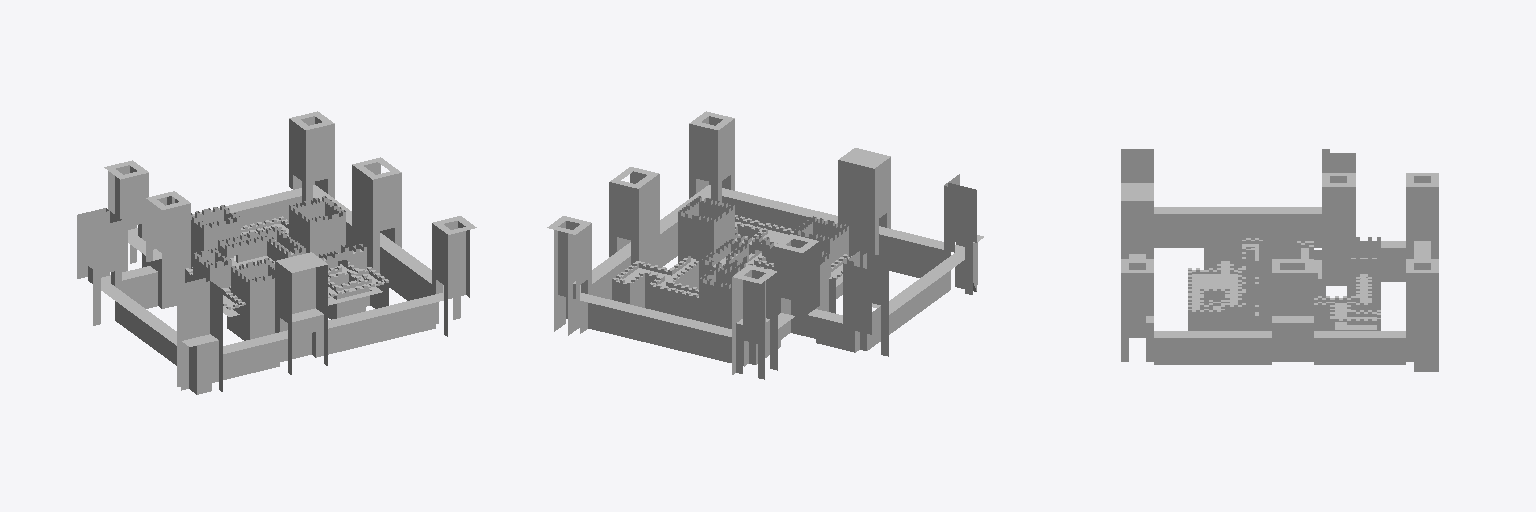
Rendered from Combined Mesh (root_ scene) #61264.obj.
3 renders of one model, left to right at view 1: azimuth 30°, elevation 25°; view 2: azimuth 150°, elevation 25°; view 3: azimuth 270°, elevation 25°, orthographic.
Parts seen in each view (by area): view 1: Combined Mesh (root: scene)_41, Combined Mesh (root: scene)_46, Combined Mesh (root: scene)_47, Combined Mesh (root: scene)_45, Combined Mesh (root: scene)_43; view 2: Combined Mesh (root: scene)_41, Combined Mesh (root: scene)_46, Combined Mesh (root: scene)_47, Combined Mesh (root: scene)_45, Combined Mesh (root: scene)_43, Combined Mesh (root: scene)_40; view 3: Combined Mesh (root: scene)_41, Combined Mesh (root: scene)_46, Combined Mesh (root: scene)_47, Combined Mesh (root: scene)_43, Combined Mesh (root: scene)_45, Combined Mesh (root: scene)_40.
Part boxes in pixels (x1,y1,x2,y2): Combined Mesh (root: scene)_41: (77,111,476,394); Combined Mesh (root: scene)_46: (88,119,465,391); Combined Mesh (root: scene)_47: (115,196,435,382); Combined Mesh (root: scene)_45: (101,185,443,353); Combined Mesh (root: scene)_43: (185,216,388,339); Combined Mesh (root: scene)_41: (547,111,983,379); Combined Mesh (root: scene)_46: (558,119,977,356); Combined Mesh (root: scene)_47: (588,196,950,365); Combined Mesh (root: scene)_45: (580,185,964,336); Combined Mesh (root: scene)_43: (612,215,851,320); Combined Mesh (root: scene)_40: (624,222,842,293); Combined Mesh (root: scene)_41: (1121,149,1438,371); Combined Mesh (root: scene)_46: (1121,149,1430,361); Combined Mesh (root: scene)_47: (1154,214,1405,364); Combined Mesh (root: scene)_43: (1188,235,1380,330); Combined Mesh (root: scene)_45: (1129,207,1430,337); Combined Mesh (root: scene)_40: (1192,244,1376,318).
Size of the model in its own units: 78 by 27.25 by 76.